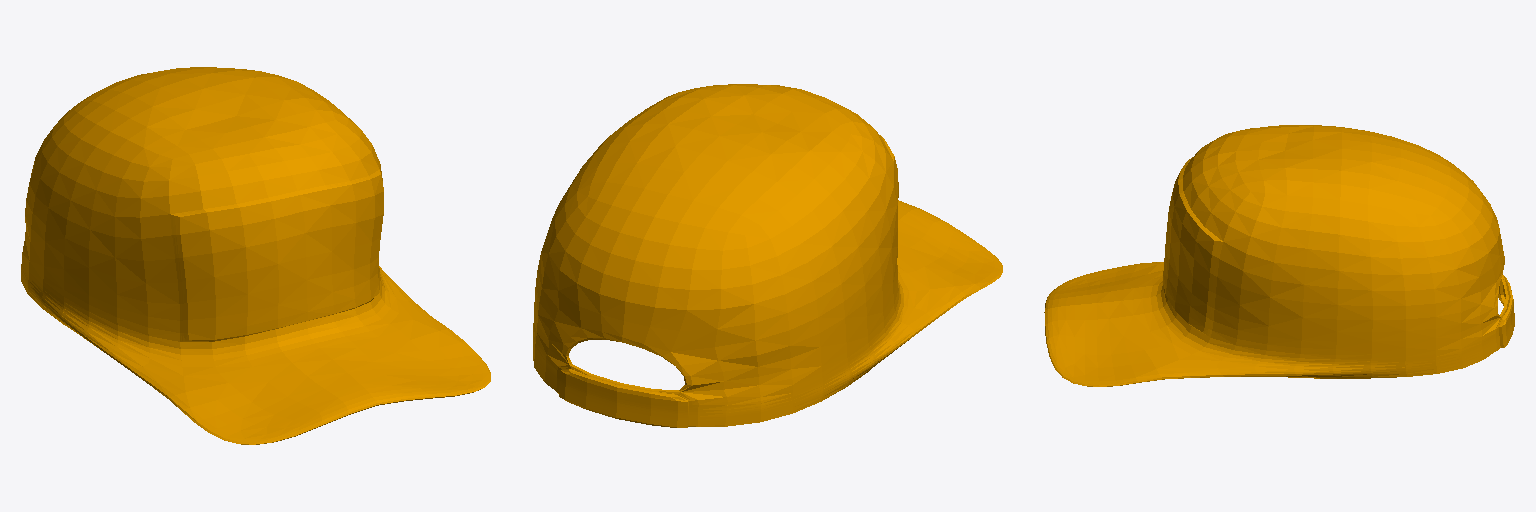
The robot description file, URDF, robot "mesh_object":
<robot name="mesh_object">
            <link name="base">
                <visual>
                    <geometry>
                        <mesh filename="baseball_cap_0_v000.obj" scale="1 1 1" />
                    </geometry>
                </visual>
                <collision>
                    <geometry>
                        <mesh filename="baseball_cap_0_v000.obj" scale="1 1 1" />
                    </geometry>
                </collision>
                <inertial>
                    <origin xyz="0.000000 0.000000 0.020795" rpy="0 0 0" />
                    <mass value="0.500000" />
                    <inertia ixx="0.01" iyy="0.01" izz="0.01" ixy="0" ixz="0" iyz="0" />
                </inertial>
            </link>
            </robot>

--- What the picture shows (computed from the rendered views, not written in the file) ---
3 views of the same robot in one strip: view 1: azimuth 30°, elevation 25°; view 2: azimuth 150°, elevation 25°; view 3: azimuth 270°, elevation 25° (orthographic).
Model mesh_object with 1 links and 0 joints (none), rooted at base, posed every joint at zero.
Visible links, largest first — view 1: base; view 2: base; view 3: base.
Boxes of the visible links, left/top/right/bottom form: base: left=21, top=67, right=490, bottom=444; base: left=533, top=84, right=1002, bottom=427; base: left=1044, top=125, right=1514, bottom=386.
Size in the robot's own frame: 0.0633 by 0.102 by 0.0441 metres.
1 mesh visuals loaded from 1 distinct referenced files (1 OBJ).
